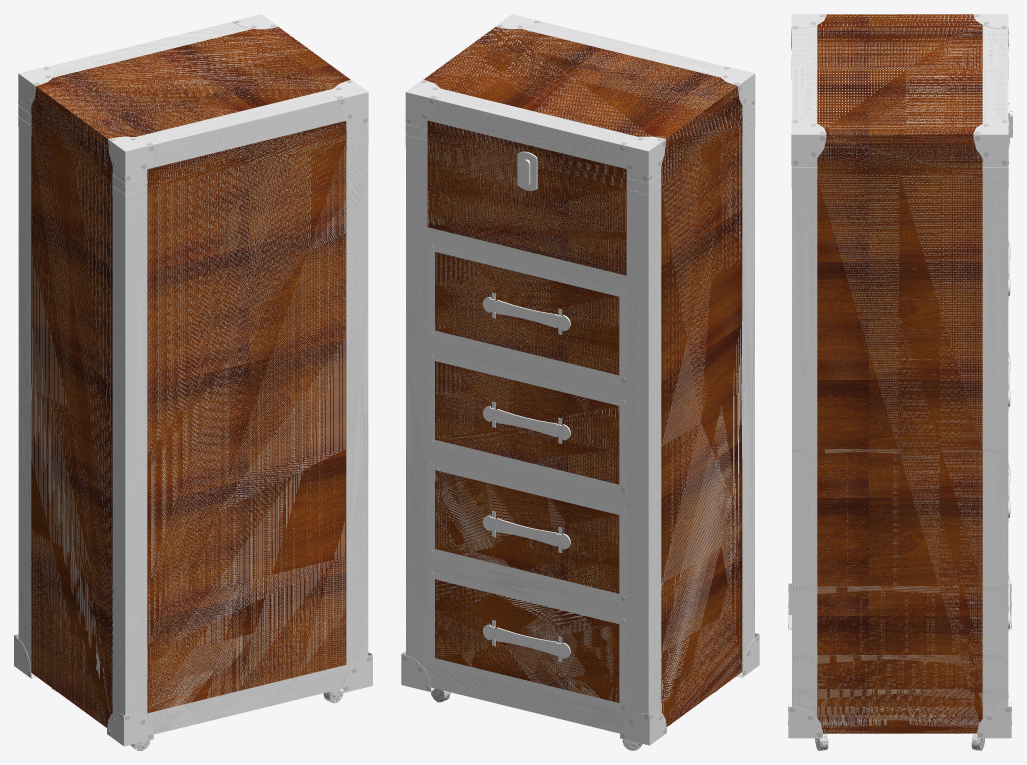
3 views of the same model, side by side, from view 1: azimuth 30°, elevation 25°; view 2: azimuth 150°, elevation 25°; view 3: azimuth 270°, elevation 25° (orthographic).
Parts seen in each view (by area): view 1: mesh1_mesh1-geometry, mesh14_mesh14-geometry, mesh19_mesh19-geometry, mesh13_mesh13-geometry, mesh16_mesh16-geometry, mesh49_mesh49-geometry, mesh21_mesh21-geometry, mesh17_mesh17-geometry, mesh77_mesh77-geometry, mesh78_mesh78-geometry; view 2: mesh1_mesh1-geometry, mesh3_mesh3-geometry, mesh13_mesh13-geometry, mesh19_mesh19-geometry, mesh4_mesh4-geometry, mesh17_mesh17-geometry, mesh14_mesh14-geometry, mesh10_mesh10-geometry, mesh21_mesh21-geometry, mesh49_mesh49-geometry, mesh16_mesh16-geometry, mesh78_mesh78-geometry (+1 smaller); view 3: mesh1_mesh1-geometry, mesh19_mesh19-geometry, mesh13_mesh13-geometry, mesh14_mesh14-geometry, mesh21_mesh21-geometry, mesh49_mesh49-geometry, mesh17_mesh17-geometry, mesh16_mesh16-geometry, mesh77_mesh77-geometry, mesh78_mesh78-geometry, mesh10_mesh10-geometry.
Boxes of the visible parts, left/top/right/bottom form: mesh1_mesh1-geometry: left=31, top=126, right=346, bottom=727; mesh14_mesh14-geometry: left=112, top=135, right=368, bottom=734; mesh19_mesh19-geometry: left=31, top=27, right=350, bottom=188; mesh13_mesh13-geometry: left=18, top=116, right=31, bottom=669; mesh16_mesh16-geometry: left=112, top=88, right=367, bottom=194; mesh49_mesh49-geometry: left=14, top=14, right=372, bottom=692; mesh21_mesh21-geometry: left=18, top=66, right=368, bottom=746; mesh17_mesh17-geometry: left=18, top=22, right=251, bottom=124; mesh77_mesh77-geometry: left=18, top=105, right=368, bottom=150; mesh78_mesh78-geometry: left=112, top=174, right=147, bottom=204; mesh1_mesh1-geometry: left=427, top=126, right=742, bottom=726; mesh3_mesh3-geometry: left=435, top=252, right=619, bottom=702; mesh13_mesh13-geometry: left=406, top=135, right=661, bottom=733; mesh19_mesh19-geometry: left=423, top=27, right=742, bottom=188; mesh4_mesh4-geometry: left=427, top=242, right=626, bottom=712; mesh17_mesh17-geometry: left=406, top=88, right=661, bottom=193; mesh14_mesh14-geometry: left=742, top=116, right=754, bottom=670; mesh10_mesh10-geometry: left=482, top=297, right=570, bottom=658; mesh21_mesh21-geometry: left=401, top=14, right=759, bottom=691; mesh49_mesh49-geometry: left=405, top=66, right=755, bottom=745; mesh16_mesh16-geometry: left=522, top=22, right=754, bottom=124; mesh78_mesh78-geometry: left=405, top=105, right=755, bottom=150; mesh1_mesh1-geometry: left=817, top=178, right=982, bottom=733; mesh19_mesh19-geometry: left=817, top=14, right=982, bottom=177; mesh13_mesh13-geometry: left=982, top=178, right=1008, bottom=718; mesh14_mesh14-geometry: left=792, top=178, right=817, bottom=717; mesh21_mesh21-geometry: left=788, top=14, right=1011, bottom=738; mesh49_mesh49-geometry: left=788, top=14, right=1011, bottom=738; mesh17_mesh17-geometry: left=982, top=25, right=1008, bottom=177; mesh16_mesh16-geometry: left=792, top=25, right=817, bottom=177; mesh77_mesh77-geometry: left=791, top=50, right=1008, bottom=188; mesh78_mesh78-geometry: left=791, top=50, right=1008, bottom=188; mesh10_mesh10-geometry: left=1008, top=243, right=1009, bottom=628.
Size of the model in its own units: 0.3736 by 0.882 by 0.2873.
